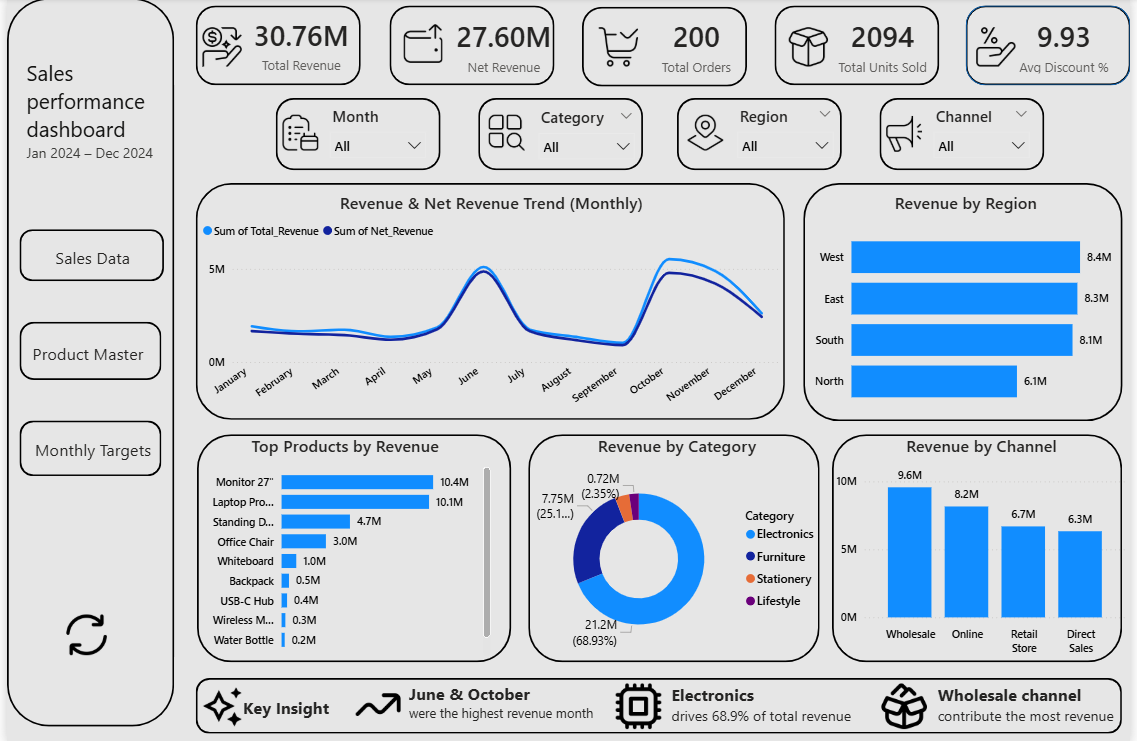

What the dashboard file says about the page in this screenshot:
{"tool":"powerbi","page":{"name":"Sales_Data","canvas":[1280,850],"ordinal":1},"visuals":[{"type":"image","box":[886.4,28.9,54.9,54.9],"z":0},{"type":"image","box":[669.8,28.9,54.9,54.9],"z":1000},{"type":"image","box":[544.2,128.5,50.5,50.5],"z":2000},{"type":"image","box":[770.9,128.5,50.5,50.5],"z":3000},{"type":"image","box":[997.5,129.9,50.5,50.5],"z":4000},{"type":"image","box":[308.9,128.5,50.5,50.5],"z":5000},{"type":"image","box":[1100,28.9,54.9,54.9],"z":6000},{"type":"card","fields":{"Values":["Sales_Data.Avg Discount %"]},"box":[1140.1,17,130,74],"z":7000},{"type":"card","fields":{"Values":["Sales_Data.Total Units Sold"]},"box":[932.3,17,130,74],"z":8000},{"type":"card","fields":{"Values":["Sales_Data.Total Orders"]},"box":[720.2,17,130,74],"z":9000},{"type":"card","fields":{"Values":["Sales_Data.Net Revenue"]},"box":[500.9,17,130,74],"z":10000},{"type":"card","fields":{"Values":["Sales_Data.Total Revenue"]},"box":[270.1,15.6,130,74],"z":11000},{"type":"image","box":[218,28.9,54.9,54.9],"z":12000},{"type":"columnChart","title":"Revenue by Channel","fields":{"Category":["Sales_Data.Channel"],"Y":["Sum(Sales_Data.Total_Revenue)"]},"box":[939.8,496.6,340.7,259.9],"z":13000},{"type":"image","box":[447.5,17.3,53.4,69.3],"z":14000},{"type":"donutChart","title":"Revenue by Category","fields":{"Category":["Sales_Data.Category"],"Y":["Sum(Sales_Data.Total_Revenue)"]},"box":[593.3,496.6,339.3,259.9],"z":15000},{"type":"shape","box":[537,114,187.7,82.3],"z":16000},{"type":"shape","box":[763.7,114,187.7,82.3],"z":17000},{"type":"shape","box":[994.7,114,187.7,82.3],"z":18000},{"type":"shape","box":[306,114,187.7,82.3],"z":19000},{"type":"shape","box":[215.1,8.7,188,90.9],"z":20000},{"type":"shape","box":[436,8.7,188,90.9],"z":21000},{"type":"shape","box":[655.4,10.1,188,90.9],"z":22000},{"type":"shape","box":[874.8,8.7,187.7,90.9],"z":23000},{"type":"lineChart","title":"Revenue & Net Revenue Trend (Monthly)","fields":{"Y":["Sum(Sales_Data.Total_Revenue)","Sum(Sales_Data.Net_Revenue)"],"Category":["Sales_Data.Order_Date.Variation.Date Hierarchy.Month"]},"box":[218,220.9,668.4,261.3],"z":24000},{"type":"barChart","title":"Revenue by Region","fields":{"Category":["Sales_Data.Region"],"Y":["Sum(Sales_Data.Total_Revenue)"]},"box":[913.8,220.9,356.6,259.9],"z":25000},{"type":"barChart","title":"Top Products by Revenue","fields":{"Category":["Sales_Data.Product_Name"],"Y":["Sum(Sales_Data.Total_Revenue)"]},"box":[215.1,496.6,340.7,258.4],"z":26000},{"type":"shape","box":[1092.3,8.7,187.7,90.9],"z":27000},{"type":"textbox","box":[28.9,277.2,138.6,60.6],"z":28000},{"type":"textbox","box":[5.8,386.9,173.2,37.5],"z":29000},{"type":"textbox","box":[11.5,496.6,173.2,36.1],"z":30000},{"type":"shape","box":[939.8,496.6,330.6,259.9],"z":31000},{"type":"shape","box":[216.5,496.6,358,259.9],"z":32000},{"type":"shape","box":[593.3,496.6,332,259.9],"z":33000},{"type":"shape","box":[906.6,210.8,363.8,271.4],"z":34000},{"type":"shape","box":[215.1,210.8,671.3,270],"z":35000},{"type":"shape","box":[0,0,190.6,830.1],"z":36000},{"type":"image","box":[62.1,692.9,56.3,63.5],"z":37000},{"type":"shape","box":[1092.8,8.7,187.7,90.9],"z":38000},{"type":"textbox","box":[17.3,63.5,161.7,145.8],"z":39000},{"type":"slicer","fields":{"Values":["Sales_Data.Order_Date.Variation.Date Hierarchy.Month"]},"box":[358,118.4,129.9,73.6],"z":40000},{"type":"slicer","fields":{"Values":["Sales_Data.Category"]},"box":[594.8,119.8,129.9,73.6],"z":41000},{"type":"slicer","fields":{"Values":["Sales_Data.Region"]},"box":[821.4,118.4,129.9,73.6],"z":42000},{"type":"slicer","fields":{"Values":["Sales_Data.Channel"]},"box":[1045.2,118.4,129.9,73.6],"z":43000},{"type":"actionButton","box":[27.4,681.4,128.5,73.6],"z":44000},{"type":"shape","box":[14.4,264.2,164.6,59.2],"z":45000},{"type":"shape","box":[14.4,369.6,161.7,66.4],"z":46000},{"type":"shape","box":[14.4,480.7,161.7,63.5],"z":47000},{"type":"shape","box":[215.1,775.2,1055.3,63.5],"z":48000},{"type":"textbox","box":[245.4,791.1,127,44.8],"z":49000},{"type":"textbox","box":[453.3,775.2,244,63.5],"z":50000},{"type":"textbox","box":[752.1,776.7,238.2,60.6],"z":51000},{"type":"textbox","box":[1055.3,776.7,225.2,59.2],"z":52000},{"type":"image","box":[218,781,54.9,54.9],"z":53000},{"type":"image","box":[391.2,775.2,62.1,60.6],"z":54000},{"type":"image","box":[688.6,776.7,63.5,62.1],"z":55000},{"type":"image","box":[990.3,776.7,65,62],"z":56000}]}

Visuals, with their boxes in screenshot pixels (x1, y1, x2, y2), scaled from the page's 1280x850 canvas onto the 1137x741 screenshot:
image: (787,25,836,73)
image: (595,25,644,73)
image: (483,112,528,156)
image: (685,112,730,156)
image: (886,113,931,157)
image: (274,112,319,156)
image: (977,25,1026,73)
card - Sales_Data.Avg Discount %: (1013,15,1128,79)
card - Sales_Data.Total Units Sold: (828,15,944,79)
card - Sales_Data.Total Orders: (640,15,755,79)
card - Sales_Data.Net Revenue: (445,15,560,79)
card - Sales_Data.Total Revenue: (240,14,355,78)
image: (194,25,242,73)
"Revenue by Channel" columnChart: (835,433,1136,659)
image: (398,15,445,75)
"Revenue by Category" donutChart: (527,433,828,659)
shape: (477,99,644,171)
shape: (678,99,845,171)
shape: (884,99,1050,171)
shape: (272,99,439,171)
shape: (191,8,358,87)
shape: (387,8,554,87)
shape: (582,9,749,88)
shape: (777,8,944,87)
"Revenue & Net Revenue Trend (Monthly)" lineChart: (194,193,787,420)
"Revenue by Region" barChart: (812,193,1128,419)
"Top Products by Revenue" barChart: (191,433,494,658)
shape: (970,8,1136,87)
textbox: (26,242,149,294)
textbox: (5,337,159,370)
textbox: (10,433,164,464)
shape: (835,433,1128,659)
shape: (192,433,510,659)
shape: (527,433,822,659)
shape: (805,184,1128,420)
shape: (191,184,787,419)
shape: (0,0,169,724)
image: (55,604,105,659)
shape: (971,8,1136,87)
textbox: (15,55,159,182)
slicer - Sales_Data.Order_Date.Variation.Date Hierarchy.Month: (318,103,433,167)
slicer - Sales_Data.Category: (528,104,644,169)
slicer - Sales_Data.Region: (730,103,845,167)
slicer - Sales_Data.Channel: (928,103,1044,167)
actionButton: (24,594,138,658)
shape: (13,230,159,282)
shape: (13,322,156,380)
shape: (13,419,156,474)
shape: (191,676,1128,731)
textbox: (218,690,331,729)
textbox: (403,676,619,731)
textbox: (668,677,880,730)
textbox: (937,677,1136,729)
image: (194,681,242,729)
image: (347,676,403,729)
image: (612,677,668,731)
image: (880,677,937,731)
